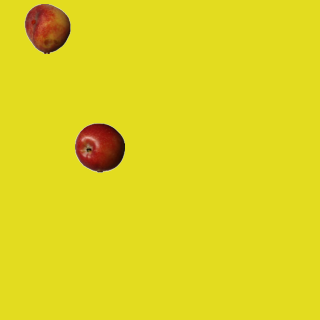Apple Braeburn: (74, 122, 124, 172)
Peach: (22, 3, 72, 53)
